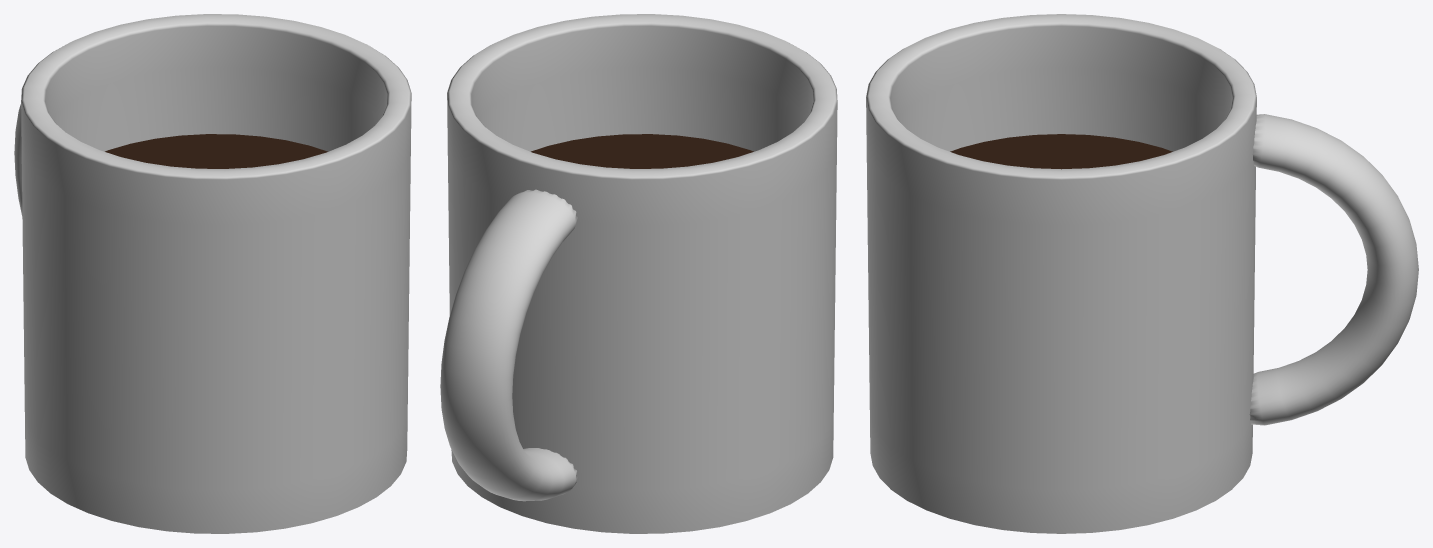
Rendered from CoffeeMug.fbx.
3 views of the same model, side by side, from view 1: azimuth 30°, elevation 25°; view 2: azimuth 150°, elevation 25°; view 3: azimuth 270°, elevation 25° (orthographic).
Parts seen in each view (by area): view 1: Mug; view 2: Mug; view 3: Mug.
Boxes of the visible parts, x1=… form: Mug: x1=14, y1=14, x2=411, y2=533; Mug: x1=440, y1=14, x2=837, y2=533; Mug: x1=866, y1=14, x2=1418, y2=533.
Bounding box in the file's own units: 7.93 × 8.03 × 11.22.
